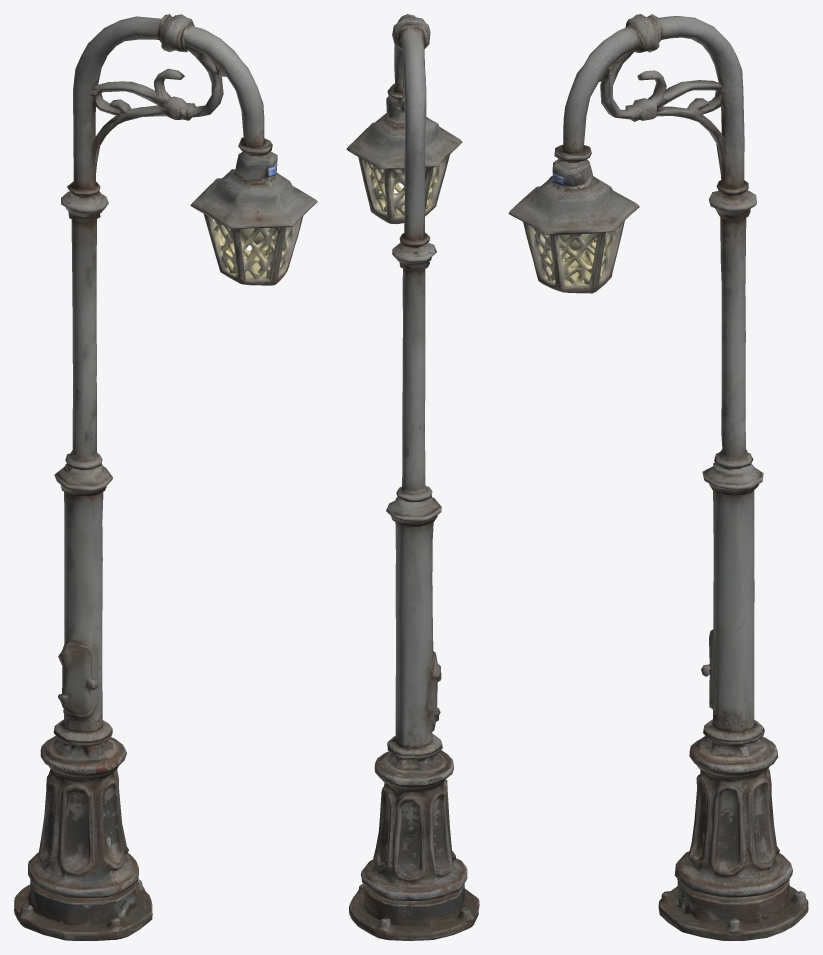
File: lamp_post.glb
3 views of the same model, side by side, from view 1: azimuth 30°, elevation 25°; view 2: azimuth 150°, elevation 25°; view 3: azimuth 270°, elevation 25° (orthographic). The views are drawn at different scales.
Visible parts, largest first — view 1: tripo_node_4a62e0c7-790c-44df-b463-2309c134978e; view 2: tripo_node_4a62e0c7-790c-44df-b463-2309c134978e; view 3: tripo_node_4a62e0c7-790c-44df-b463-2309c134978e.
Boxes of the visible parts, bbox=[...] form: tripo_node_4a62e0c7-790c-44df-b463-2309c134978e: bbox=[14, 14, 317, 940]; tripo_node_4a62e0c7-790c-44df-b463-2309c134978e: bbox=[346, 14, 479, 940]; tripo_node_4a62e0c7-790c-44df-b463-2309c134978e: bbox=[508, 14, 808, 940].
Bounding box in the file's own units: 0.2332 × 1 × 0.2959.
Materials: 1 (1 with a texture image).
